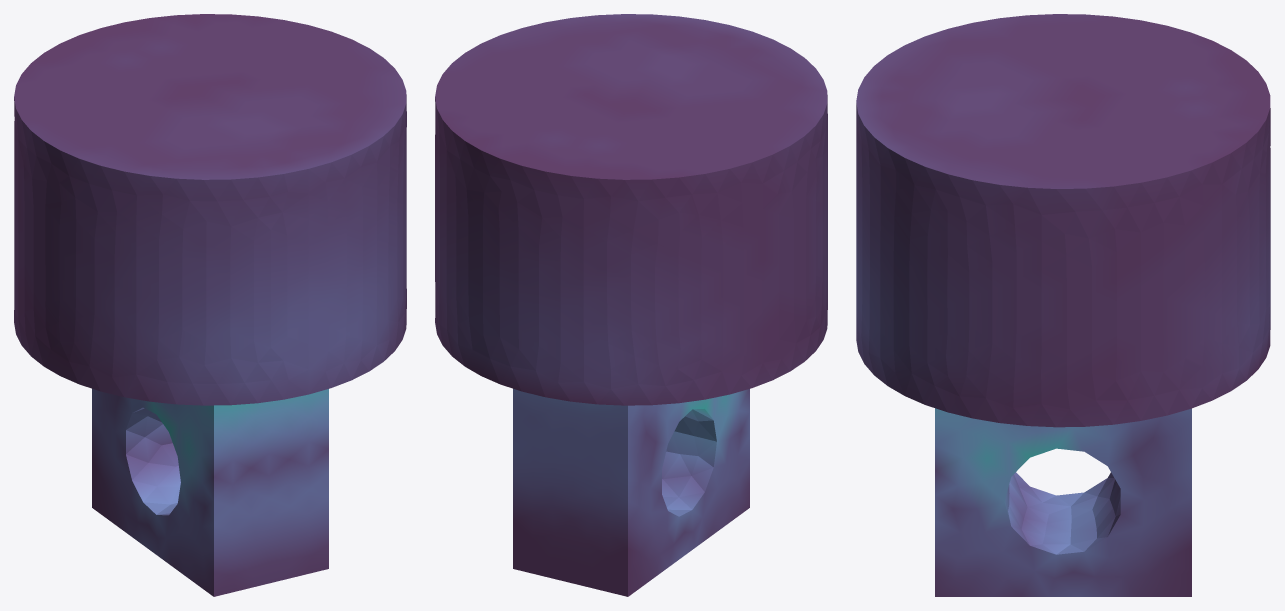
File: CAD_LG-LEGEND.glb
3 views of the same model, side by side, from view 1: azimuth 30°, elevation 25°; view 2: azimuth 150°, elevation 25°; view 3: azimuth 270°, elevation 25° (orthographic). The views are drawn at different scales.
Visible parts, largest first — view 1: geometry_0; view 2: geometry_0; view 3: geometry_0.
Boxes of the visible parts, bbox=[...] form: geometry_0: bbox=[14, 14, 406, 596]; geometry_0: bbox=[435, 14, 827, 596]; geometry_0: bbox=[856, 14, 1270, 596].
Bounding box in the file's own units: 0.071 × 0.088 × 0.071.
